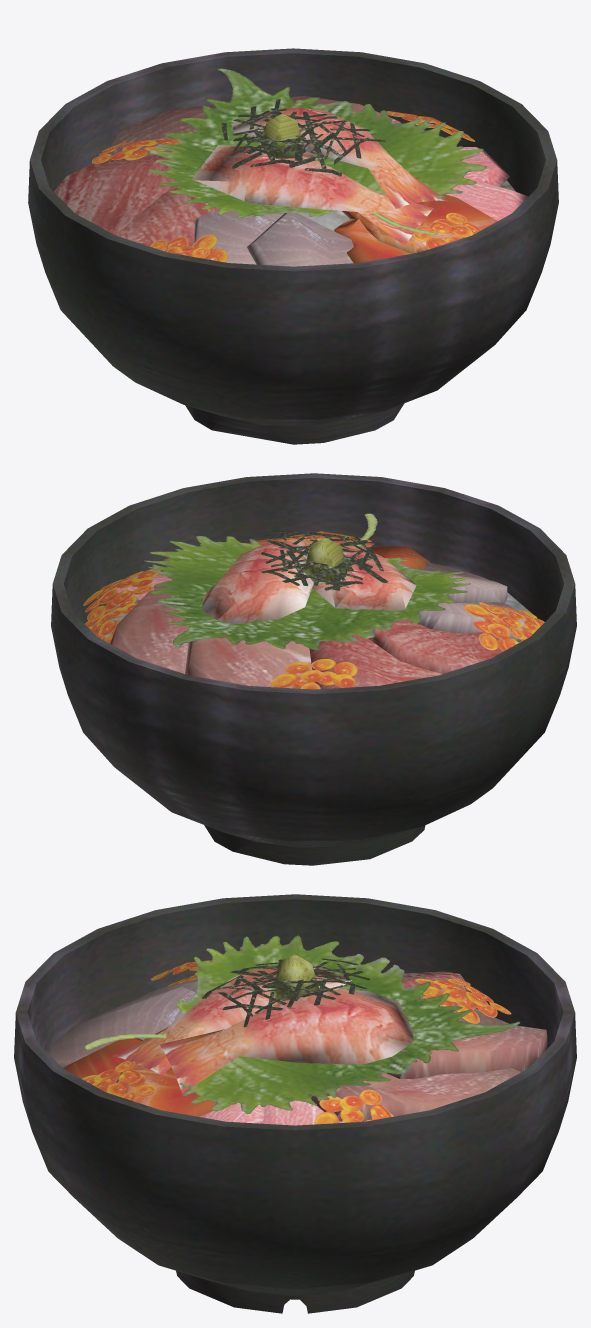
File: FoodKaisendon01.fbx
3 views of the same model, one above another, from view 1: azimuth 30°, elevation 25°; view 2: azimuth 150°, elevation 25°; view 3: azimuth 270°, elevation 25° (orthographic). The views are drawn at different scales.
Parts seen in each view (by area): view 1: FoodKaisendon01; view 2: FoodKaisendon01; view 3: FoodKaisendon01.
Part boxes in pixels (left/top/right/bottom): FoodKaisendon01: left=28, top=48, right=558, bottom=444; FoodKaisendon01: left=51, top=473, right=576, bottom=865; FoodKaisendon01: left=14, top=894, right=576, bottom=1313.
Size of the model in its own units: 17.76 by 10.53 by 17.77.
